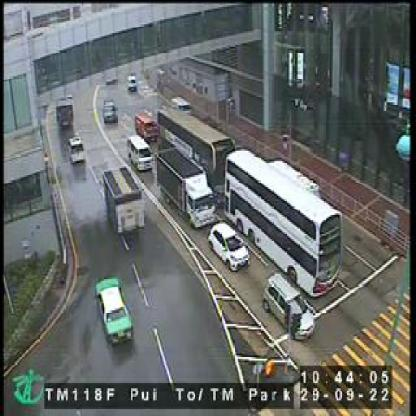Bus: (224, 149, 340, 296), (153, 102, 233, 203)
Car: (261, 274, 317, 336), (94, 276, 134, 345), (208, 220, 251, 272), (124, 135, 154, 172), (64, 135, 83, 163), (100, 97, 118, 123), (168, 96, 191, 114), (125, 71, 140, 92)
Truck: (154, 144, 214, 225), (99, 165, 149, 239), (52, 96, 75, 128), (133, 106, 152, 138)
